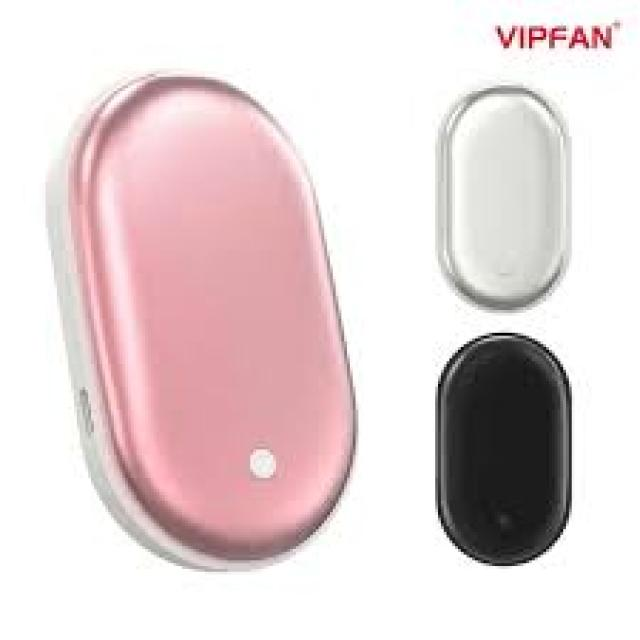portable-charger: (33, 63, 371, 570), (432, 324, 580, 570), (430, 79, 573, 310)
